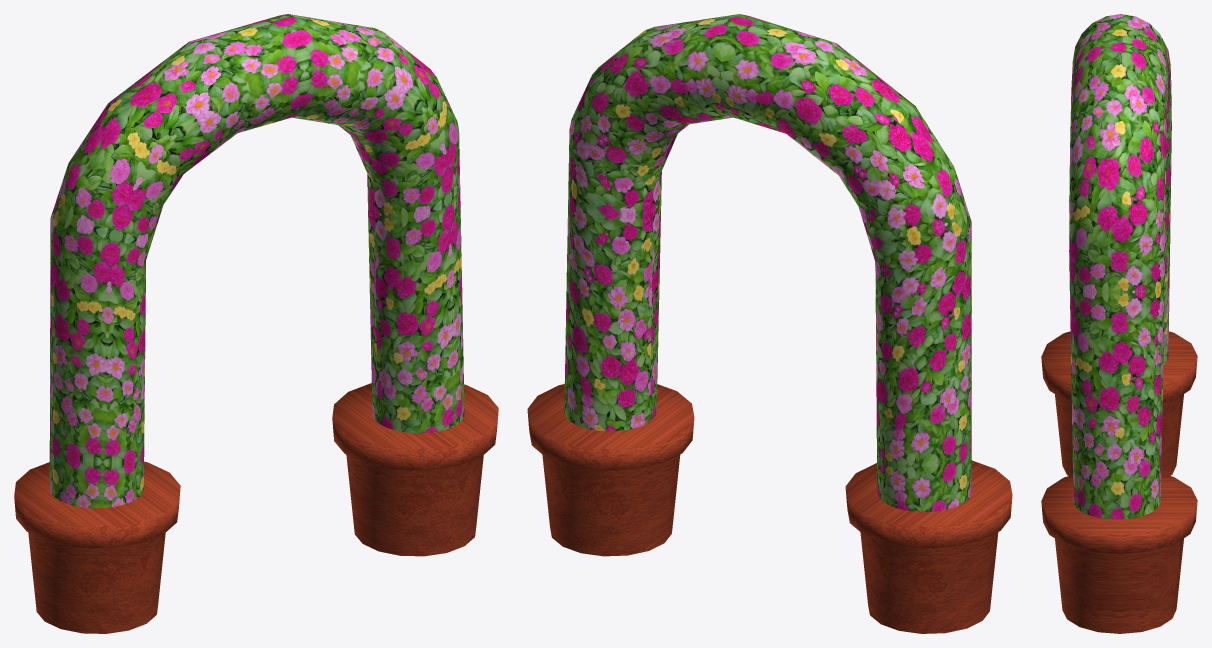
The model's file is VEG0410007.fbx.
3 renders of one model, left to right at view 1: azimuth 30°, elevation 25°; view 2: azimuth 150°, elevation 25°; view 3: azimuth 270°, elevation 25°, orthographic. The views are drawn at different scales.
Visible parts, largest first — view 1: smVEG0410007; view 2: smVEG0410007; view 3: smVEG0410007.
Boxes of the visible parts, bbox=[...] form: smVEG0410007: bbox=[14, 14, 498, 633]; smVEG0410007: bbox=[527, 14, 1012, 633]; smVEG0410007: bbox=[1041, 14, 1197, 633].
Size of the model in its own units: 300 by 335 by 94.16.
1 material, 1 textured.
